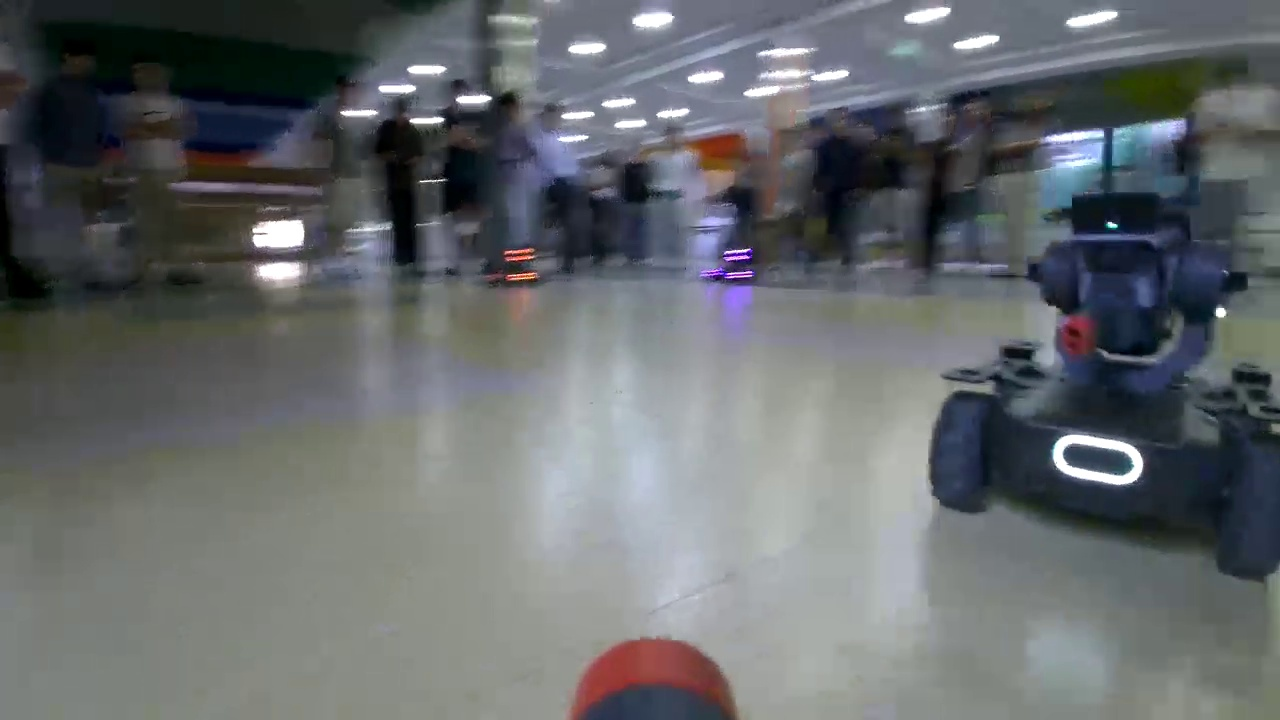robot: (933, 178, 1280, 578), (706, 246, 754, 286), (490, 246, 536, 286)
